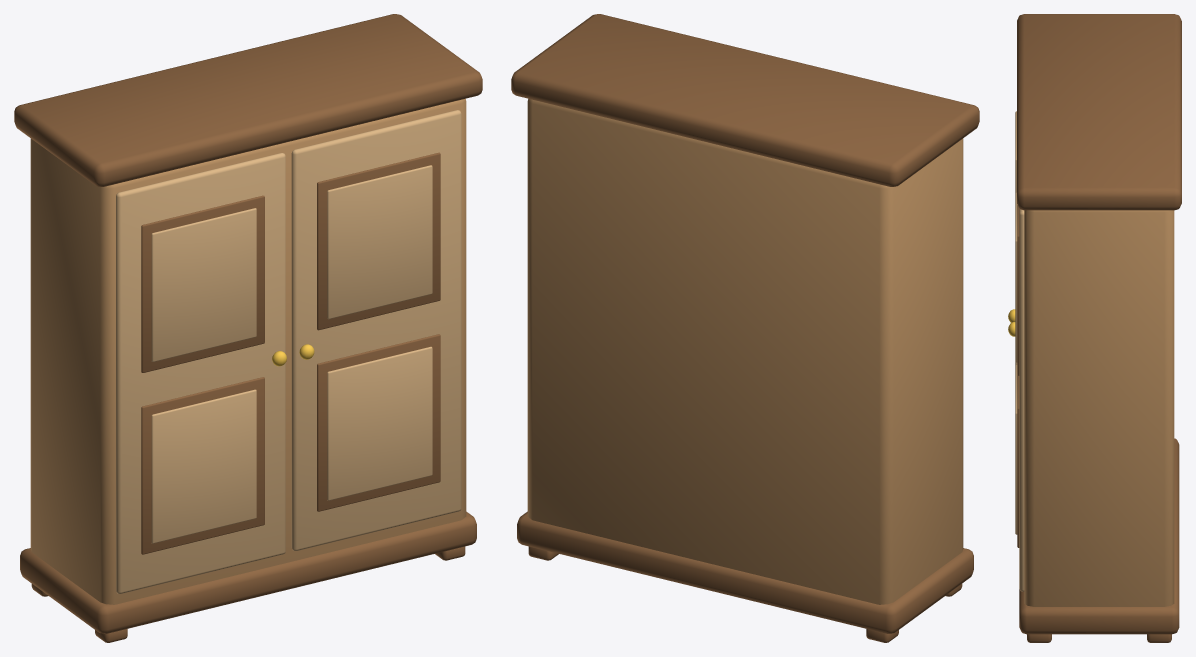
Rendered from wardrobe.glb.
3 renders of one model, left to right at view 1: azimuth 30°, elevation 25°; view 2: azimuth 150°, elevation 25°; view 3: azimuth 270°, elevation 25°, orthographic. The views are drawn at different scales.
Parts seen in each view (by area): view 1: wardrobe.001; view 2: wardrobe.001; view 3: wardrobe.001.
Part boxes in pixels (x1,y1,x2,y2): wardrobe.001: (14, 14, 482, 642); wardrobe.001: (511, 14, 979, 642); wardrobe.001: (1008, 14, 1181, 642).
Bounding box in the file's own units: 1.7 × 2.03 × 0.695.
